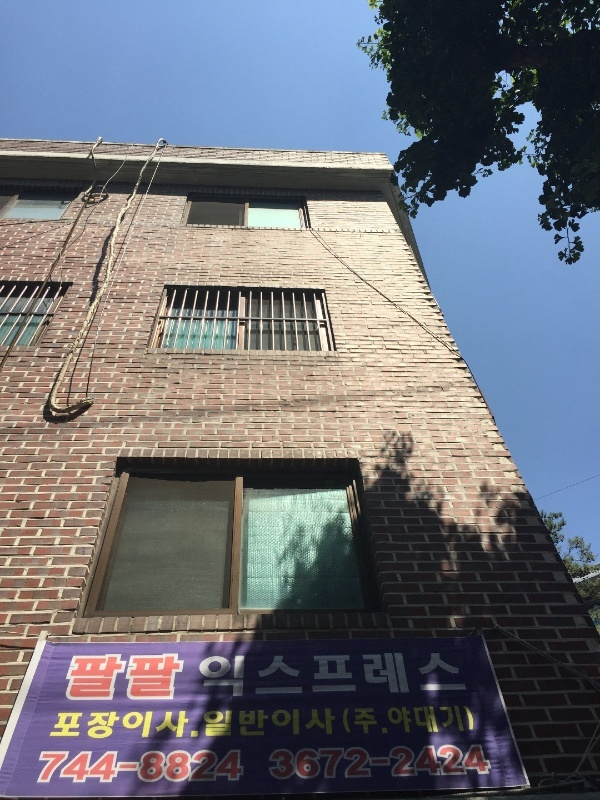text: (81, 651, 96, 706), (97, 651, 112, 706), (113, 651, 128, 706), (129, 651, 144, 706), (145, 651, 160, 706), (161, 651, 176, 706), (209, 648, 224, 702), (225, 648, 240, 702), (241, 648, 256, 702), (257, 648, 272, 702), (273, 648, 288, 702), (289, 648, 304, 702), (305, 648, 320, 702), (321, 648, 336, 702), (337, 648, 352, 702), (353, 648, 368, 702), (369, 648, 384, 702), (385, 648, 400, 702), (401, 648, 416, 702), (417, 648, 432, 702), (433, 648, 448, 702), (449, 648, 464, 702), (273, 741, 288, 787), (289, 741, 304, 787), (305, 741, 320, 787), (321, 741, 336, 787), (337, 741, 352, 787), (353, 741, 368, 787), (369, 741, 384, 787), (385, 741, 400, 787), (401, 741, 416, 787), (417, 741, 432, 787), (433, 741, 448, 787), (449, 741, 464, 787), (465, 741, 480, 787), (49, 748, 64, 787), (65, 748, 80, 787), (81, 748, 96, 787), (97, 748, 112, 787), (113, 748, 128, 787), (129, 748, 144, 787), (145, 748, 160, 787), (161, 748, 176, 787), (177, 748, 192, 787), (193, 748, 208, 787), (209, 748, 224, 787), (225, 748, 240, 787), (321, 706, 337, 741), (481, 741, 493, 787), (401, 703, 416, 739), (417, 703, 432, 739), (433, 703, 448, 739), (449, 703, 464, 739), (209, 706, 224, 741), (225, 706, 240, 741), (241, 706, 256, 741), (257, 706, 272, 741), (273, 706, 288, 741), (289, 706, 304, 741), (305, 706, 320, 741), (65, 710, 80, 743), (81, 710, 96, 743), (97, 710, 112, 743), (113, 710, 128, 743), (129, 710, 144, 743), (145, 710, 160, 743), (161, 710, 176, 743), (177, 710, 192, 743), (177, 651, 186, 706), (353, 706, 368, 736), (388, 703, 400, 739), (465, 703, 476, 739), (73, 651, 80, 706), (201, 648, 208, 702), (465, 648, 471, 702), (342, 706, 352, 736), (193, 710, 202, 743), (41, 748, 48, 787), (369, 706, 378, 736), (58, 710, 64, 743), (203, 706, 208, 741), (241, 748, 245, 787), (269, 741, 272, 787)
